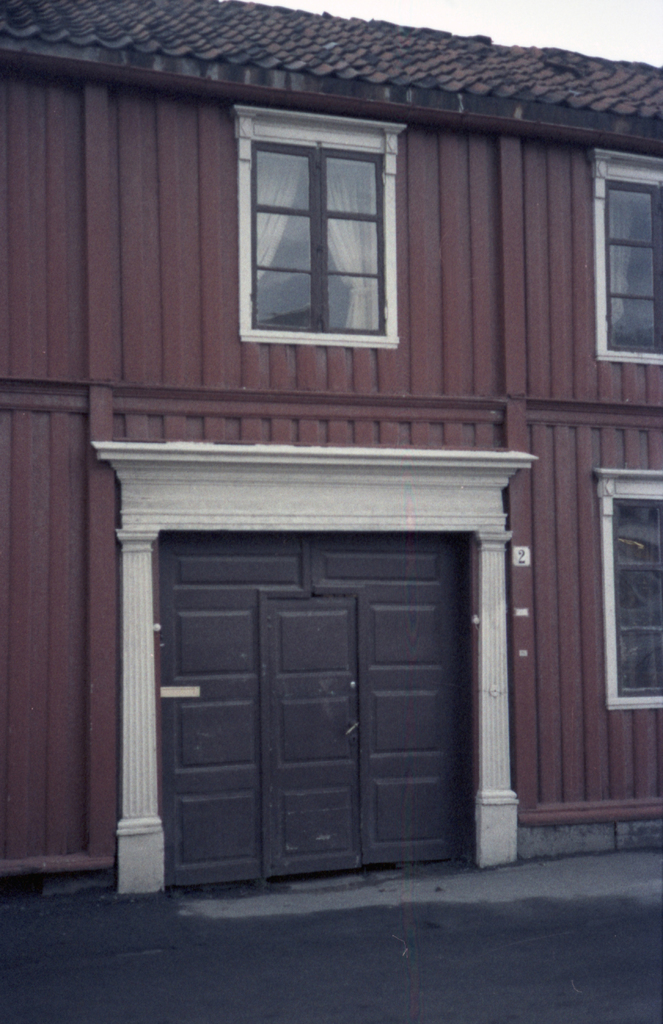Door: (143, 532, 488, 875)
